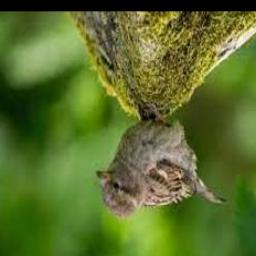Sparrow: (95, 104, 225, 221)
